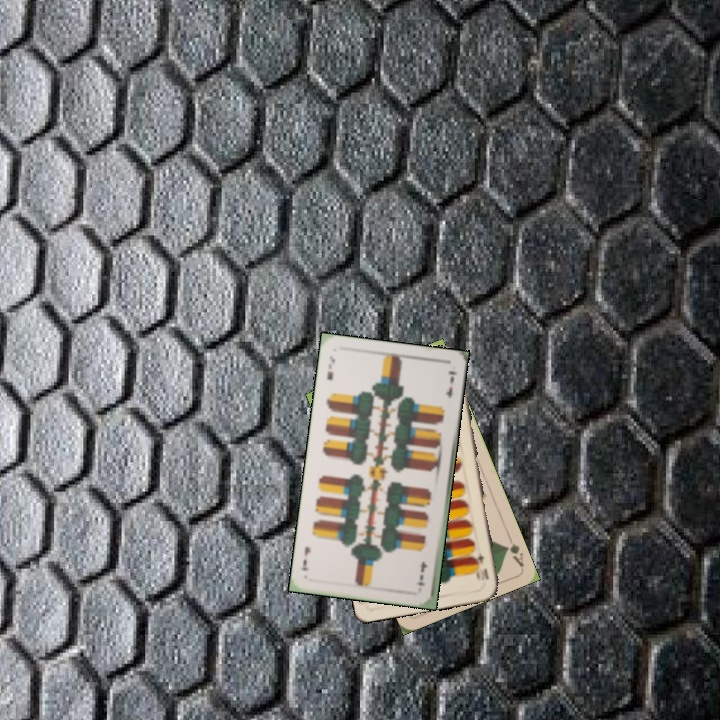E10: (471, 550, 491, 582)
E7: (414, 558, 430, 588), (323, 351, 338, 383)
GA: (501, 531, 527, 570)
